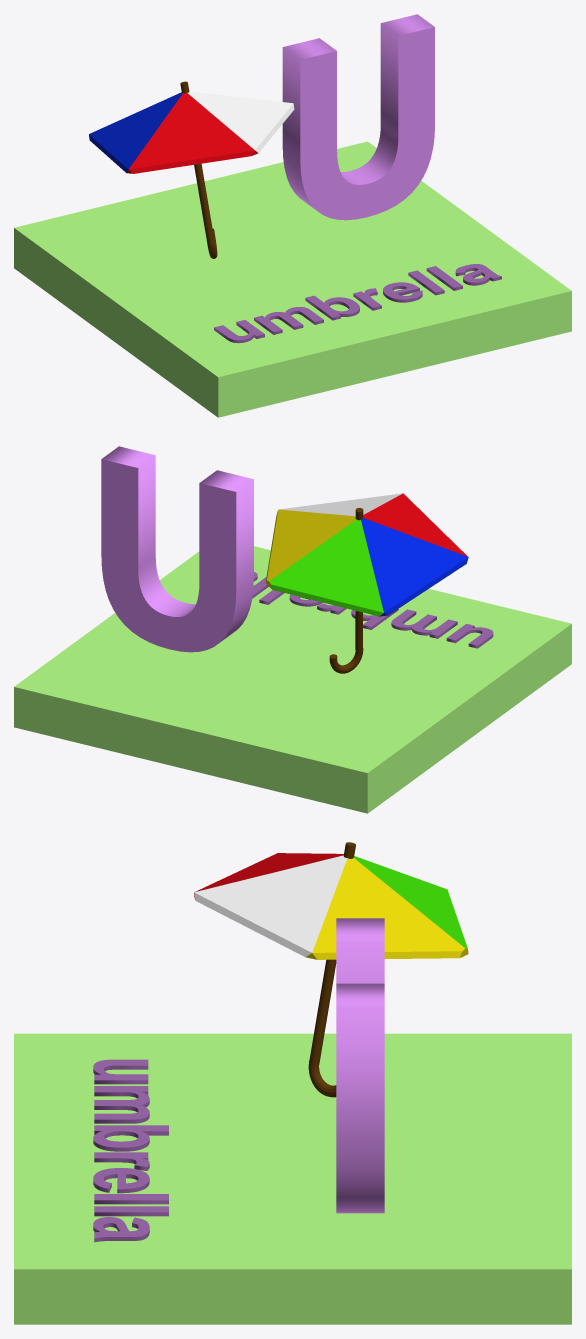
Rendered from uletter.glb.
The picture shows the model from 3 angles, top to bottom: view 1: azimuth 30°, elevation 25°; view 2: azimuth 150°, elevation 25°; view 3: azimuth 270°, elevation 25°; orthographic projection. The views are drawn at different scales.
Visible parts, largest first — view 1: Cube.022, Text.003, Cube.001, Text.002; view 2: Cube.022, Text.003, Cube.001, Text.002; view 3: Cube.022, Cube.001, Text.003, Text.002.
Part boxes in pixels (left/top/right/bottom): Cube.022: left=14, top=141, right=571, bottom=417; Text.003: left=282, top=14, right=434, bottom=220; Cube.001: left=89, top=81, right=294, bottom=258; Text.002: left=214, top=264, right=501, bottom=343; Cube.022: left=14, top=546, right=571, bottom=813; Text.003: left=101, top=446, right=253, bottom=652; Cube.001: left=265, top=493, right=468, bottom=673; Text.002: left=252, top=572, right=493, bottom=648; Cube.022: left=14, top=1033, right=571, bottom=1324; Cube.001: left=194, top=842, right=468, bottom=1097; Text.003: left=336, top=918, right=384, bottom=1213; Text.002: left=93, top=1059, right=168, bottom=1242.
Size of the model in its own units: 0.3237 by 0.1953 by 0.3237.
